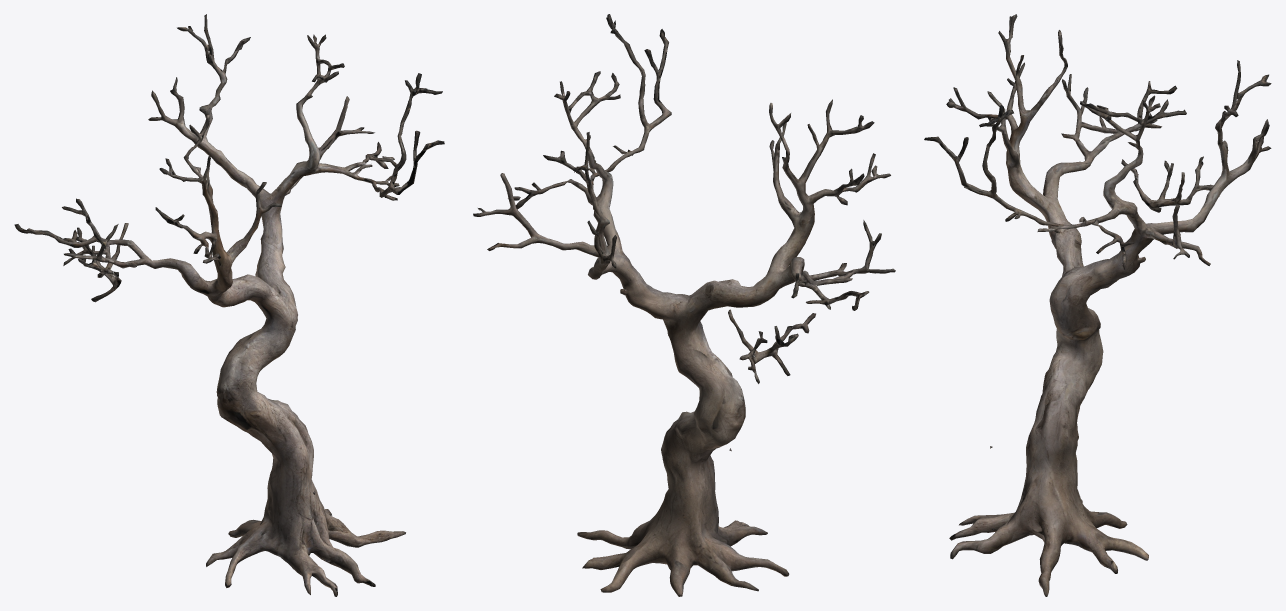
The model's file is tree.glb.
3 renders of one model, left to right at view 1: azimuth 30°, elevation 25°; view 2: azimuth 150°, elevation 25°; view 3: azimuth 270°, elevation 25°, orthographic. The views are drawn at different scales.
Bounding box in the file's own units: 1.56 × 1.99 × 1.28.
1 material, 1 textured.
